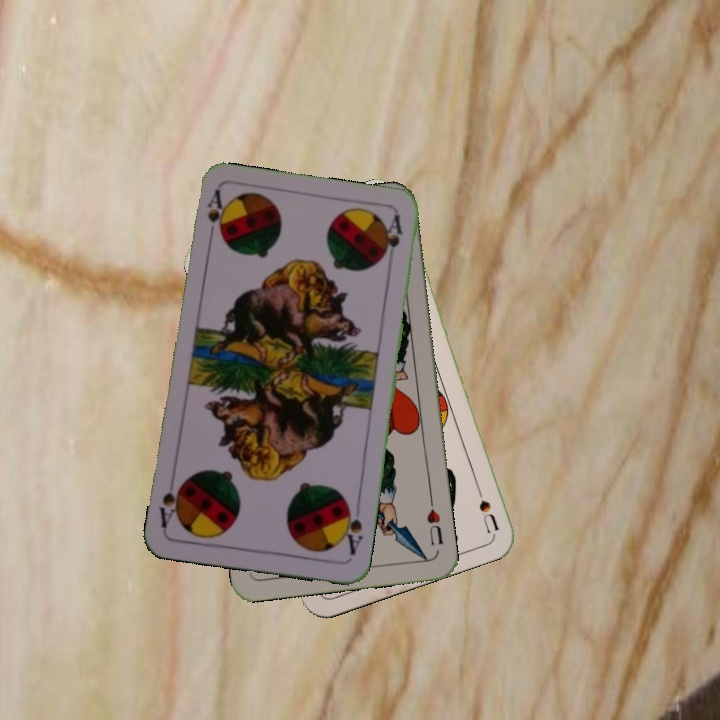HU: (422, 495, 446, 548)
SA: (338, 499, 366, 558), (202, 186, 226, 245)
SU: (471, 476, 501, 535)
